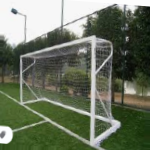goals: (19, 33, 121, 147)
